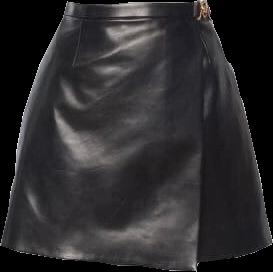Hemline: (0, 18, 205, 271), (197, 243, 272, 260)
Waistline: (62, 14, 209, 22), (66, 0, 204, 5)
